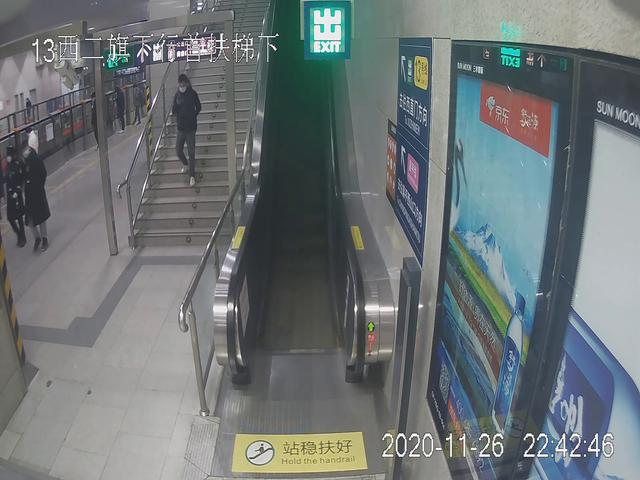person: (19, 135, 50, 251), (170, 71, 200, 184), (113, 85, 127, 133)
